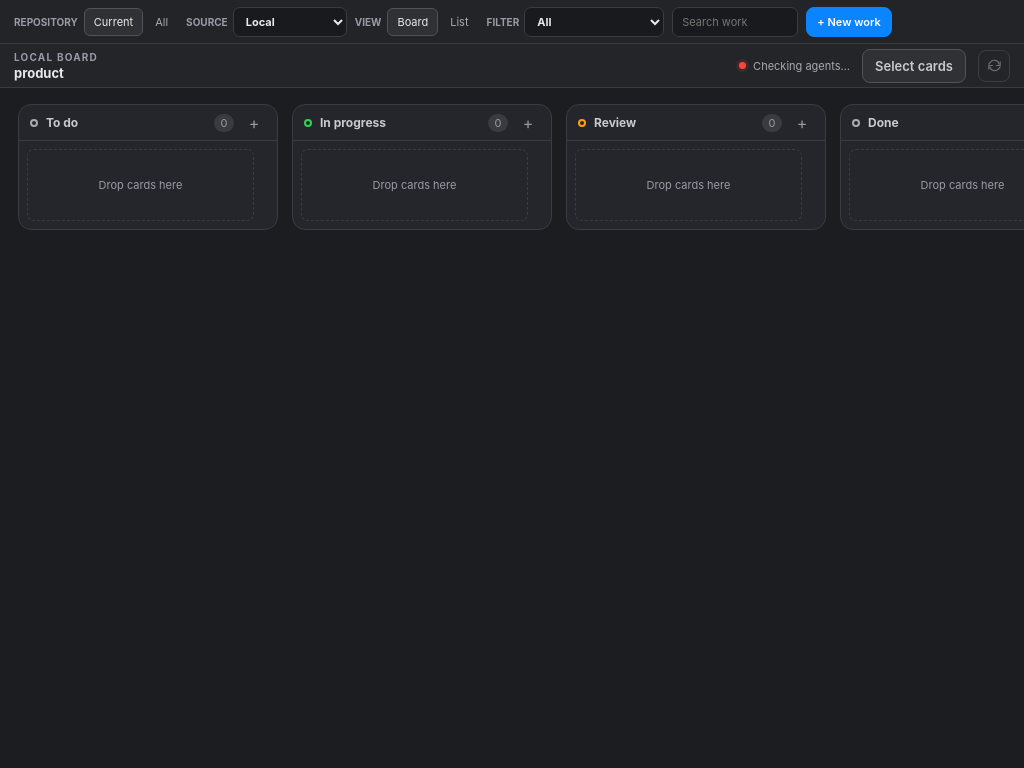
Scenario: unified agent workspace › reports workspace preparation failure without leaving a partial card or starting an agent
Click the button "+ New work" at (849, 22), box [806,6,892,36]
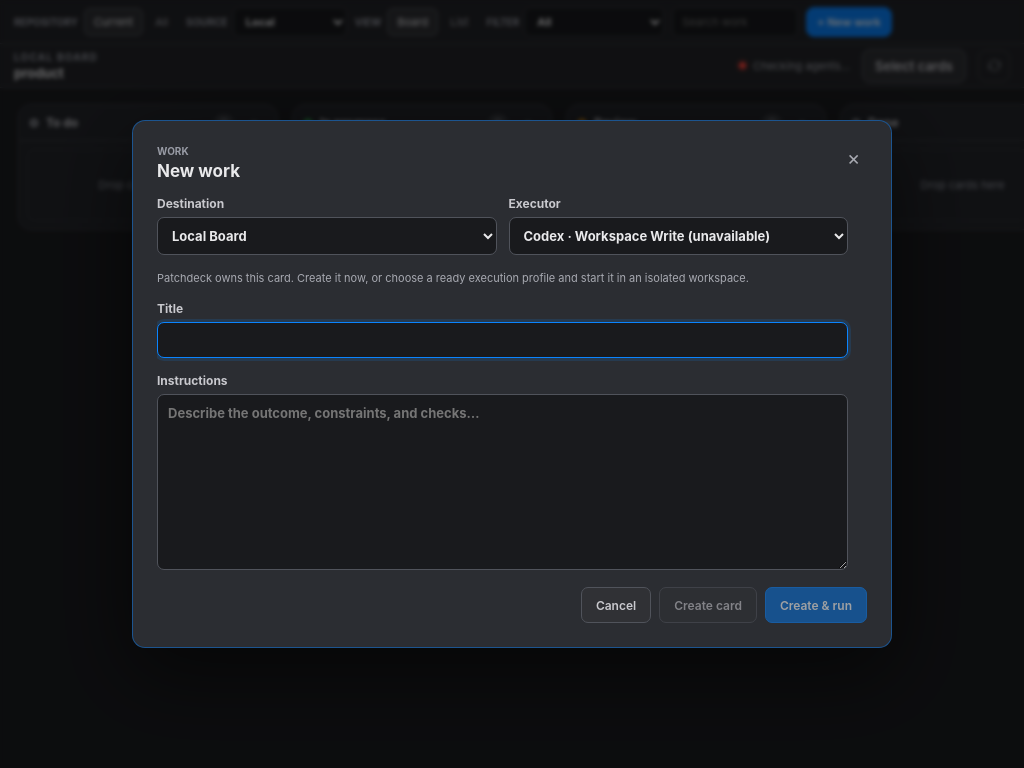
Select "Codex · Workspace Write (unavailable)" in the dropdown labelled "Executor" at (678, 236), box [508,217,848,255]
Type "Cannot prepare" into the field labelled "Title" at (502, 340), box [157,322,848,358]
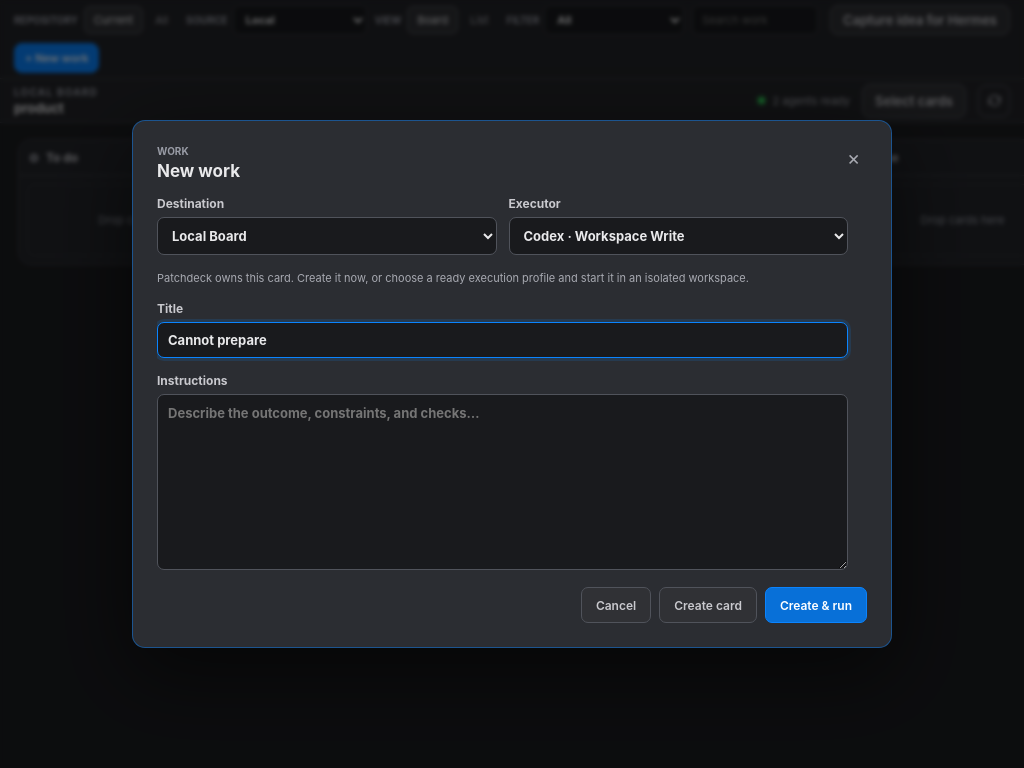
Now the button "Create & run" is enabled
Click the button "Create & run" at (816, 605), box [765,587,867,623]
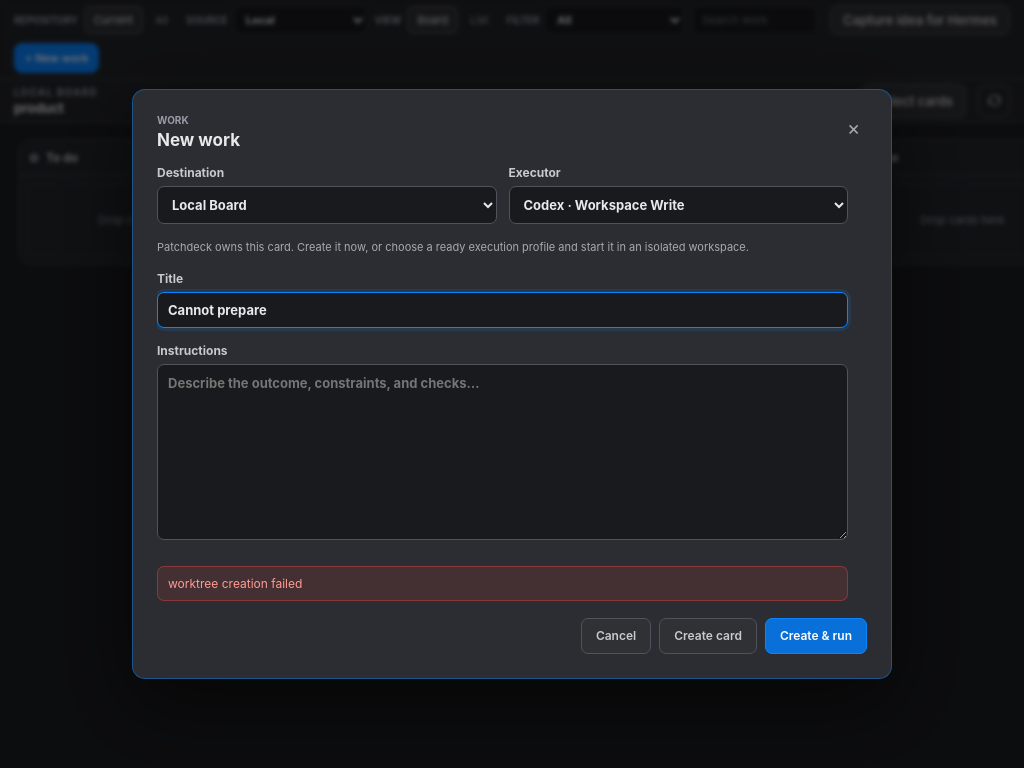
Now the message reads "worktree creation failed", box [168,576,302,590]
